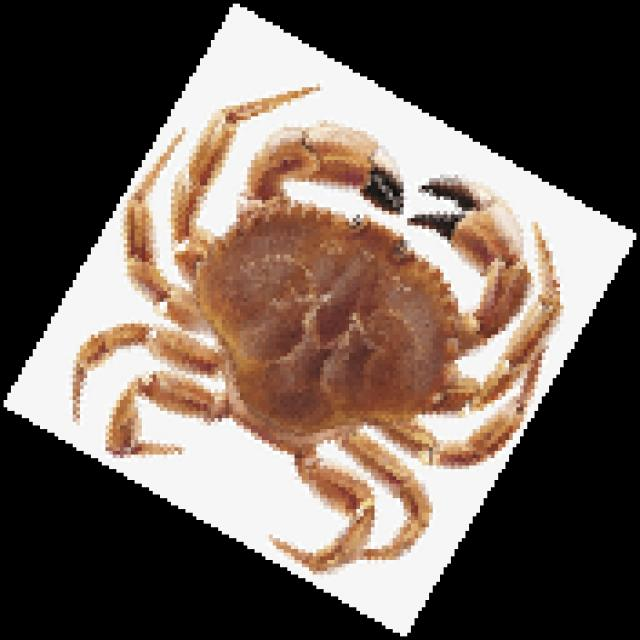Native Jonah crab: (73, 87, 560, 564)
